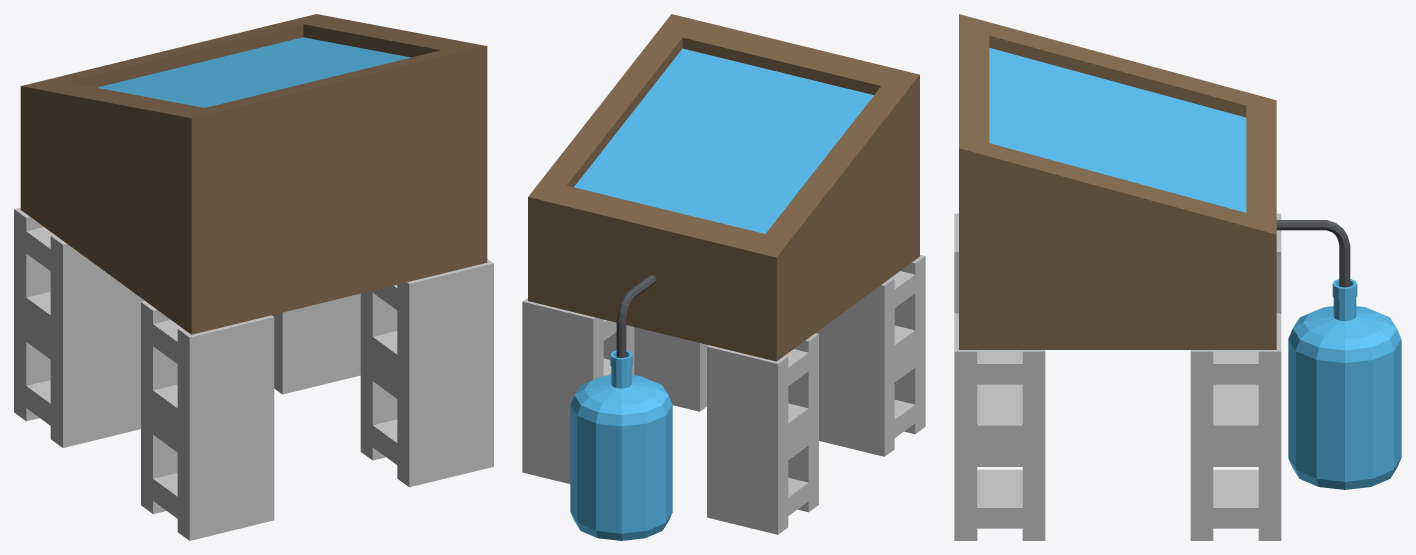
File: SolarStill.fbx
3 renders of one model, left to right at view 1: azimuth 30°, elevation 25°; view 2: azimuth 150°, elevation 25°; view 3: azimuth 270°, elevation 25°, orthographic. The views are drawn at different scales.
Parts seen in each view (by area): view 1: Solar Still, Solar Still Cement 3, Solar Still Cement 1, Solar Still Cement 4, Solar Still Cement 2; view 2: Solar Still, Solar Still Cement 4, Solar Still Cement 3, Solar Still Jug, Solar Still Cement 2, Solar Still Cement 1; view 3: Solar Still, Solar Still Jug, Solar Still Cement 2, Solar Still Cement 1, Solar Still Cement 4, Solar Still Cement 3.
Part boxes in pixels (<box>): Solar Still: <box>20,14,487,334</box>; Solar Still Cement 3: <box>141,301,274,540</box>; Solar Still Cement 1: <box>360,259,493,487</box>; Solar Still Cement 4: <box>14,207,144,447</box>; Solar Still Cement 2: <box>272,293,360,394</box>; Solar Still: <box>528,14,919,361</box>; Solar Still Cement 4: <box>707,333,818,534</box>; Solar Still Cement 3: <box>815,254,925,456</box>; Solar Still Jug: <box>570,350,672,540</box>; Solar Still Cement 2: <box>522,298,634,483</box>; Solar Still Cement 1: <box>634,327,708,411</box>; Solar Still: <box>959,14,1350,349</box>; Solar Still Jug: <box>1288,279,1401,489</box>; Solar Still Cement 2: <box>1190,313,1281,540</box>; Solar Still Cement 1: <box>954,313,1045,540</box>; Solar Still Cement 4: <box>1213,213,1281,387</box>; Solar Still Cement 3: <box>954,213,1022,387</box>.
Bounding box in the file's own units: 0.72 × 0.9848 × 0.9501.
